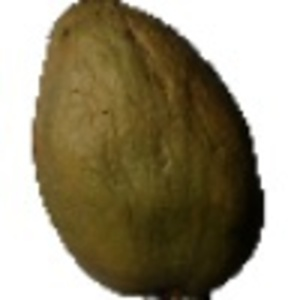mamão: (17, 3, 272, 292)
